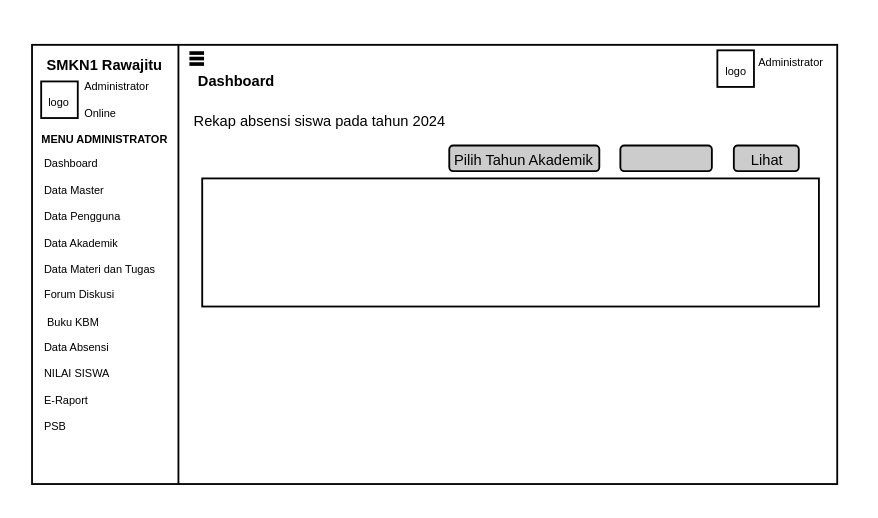
This 878x518 diagram has some shape labels left out. Each missing label, with the box of its shape:
No. Jadwal Pelajaran Kelas Guru Hari Mulai Selesai Ruangan SemesterAction: (200, 177, 819, 307)
Pilih kelas: (619, 144, 712, 171)
